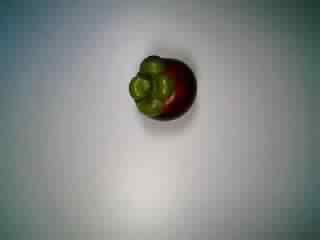mangosteen: (121, 53, 199, 125)
